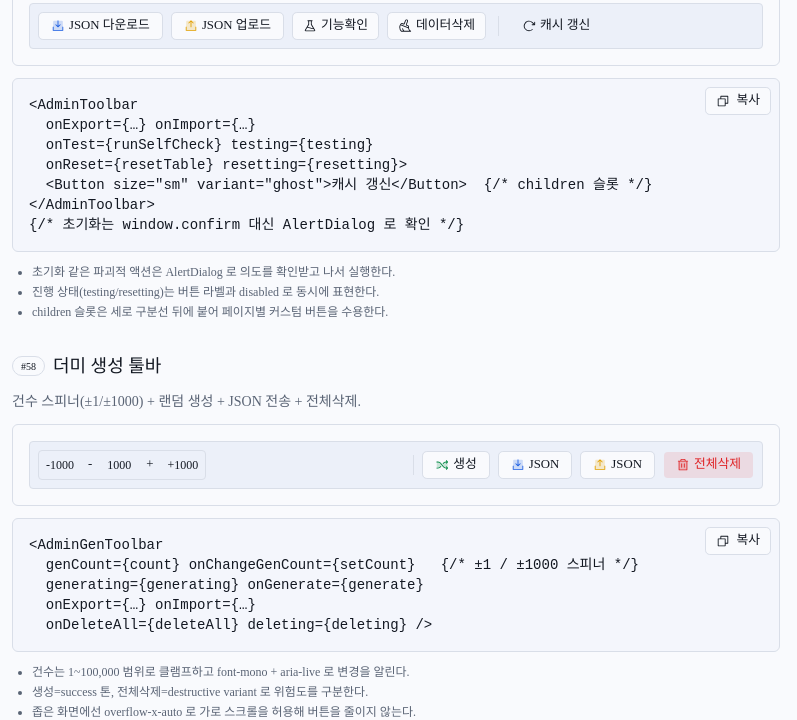
it: AdminToolbarPatternsPage › steps the generation count with the spinner buttons
(page scrolled)
Expected: the text "1000" is shown, [107,458,131,472]
Step 1. Click the button "+1000" → (183, 465), box [160,451,205,479]
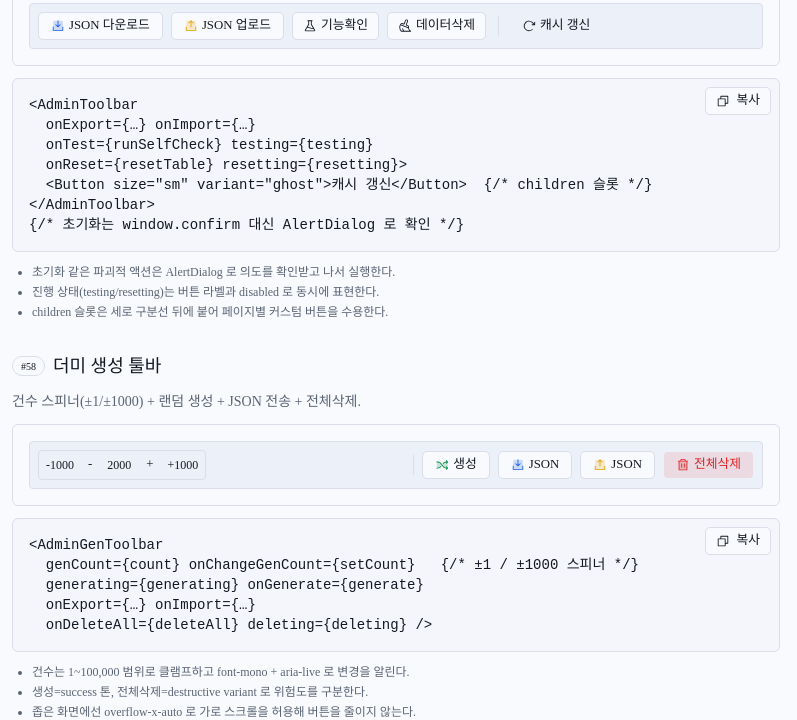
Result: the text "2000" is shown at [107,458,131,472]
Step 2. Click the button "-" → (90, 465), box [81,451,99,479]
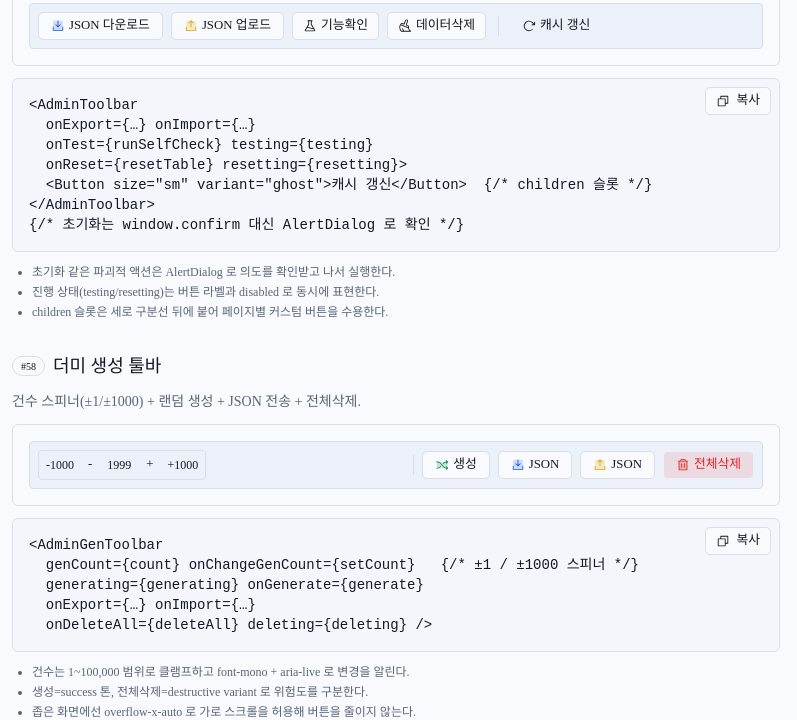
Result: the text "1999" is shown at [107,458,131,472]
